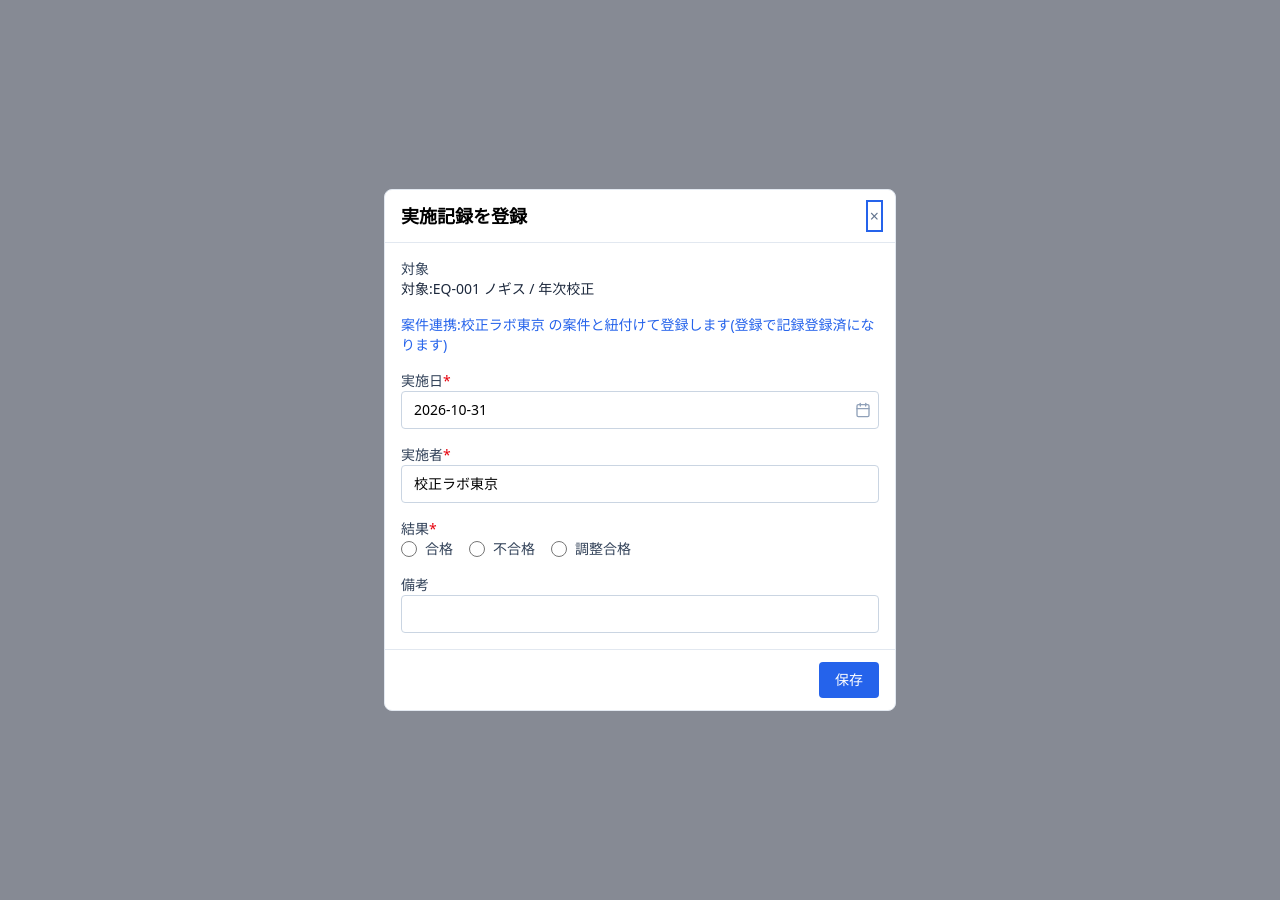
Test: ServiceRecordModal › addServiceRecord が no-op(null)の場合はエラーを表示しモーダルを閉じない
Click the radio button labelled "合格" at coordinates (409, 549), box [401,541,417,557]
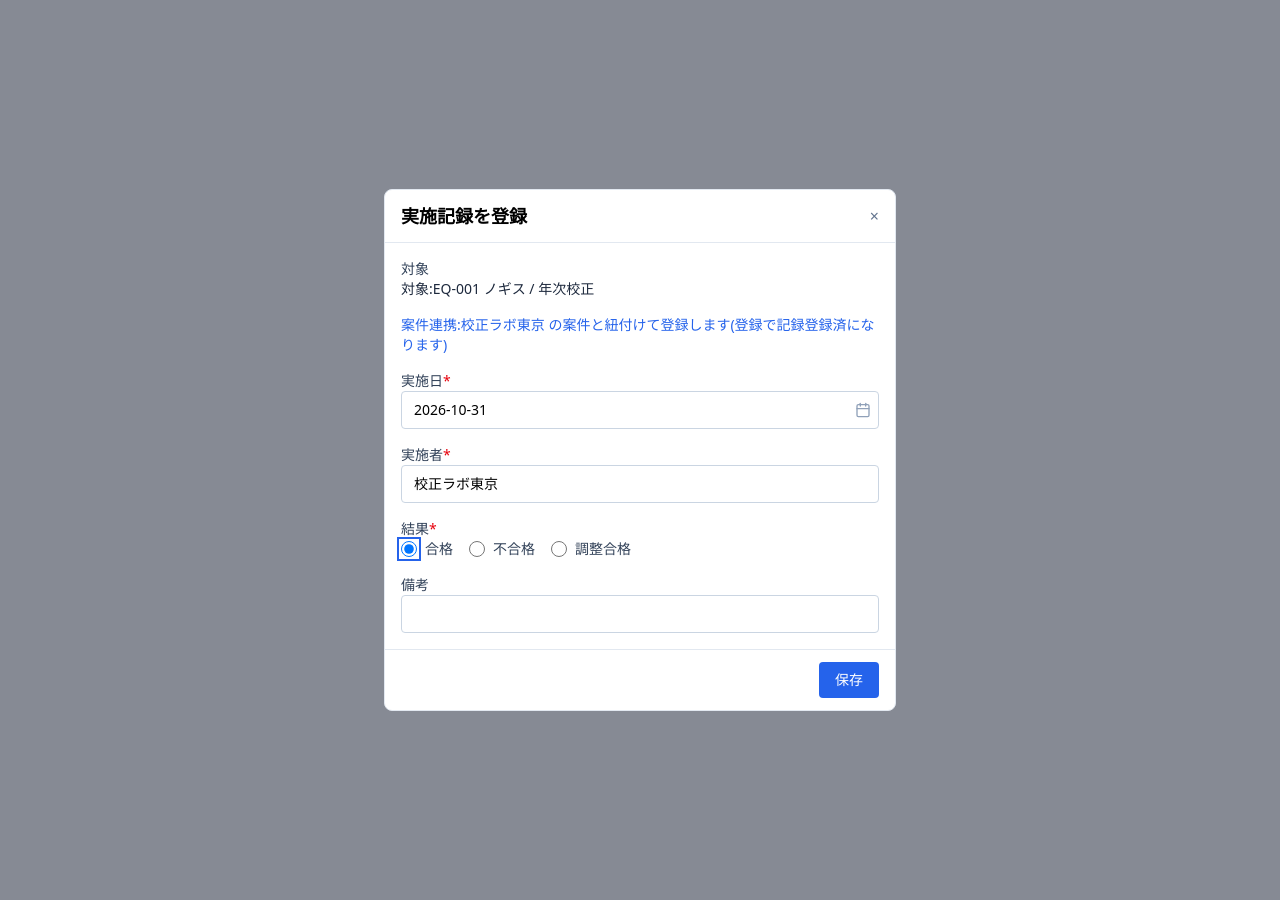
Click the button "保存" at coordinates (849, 680), box [819,662,879,698]
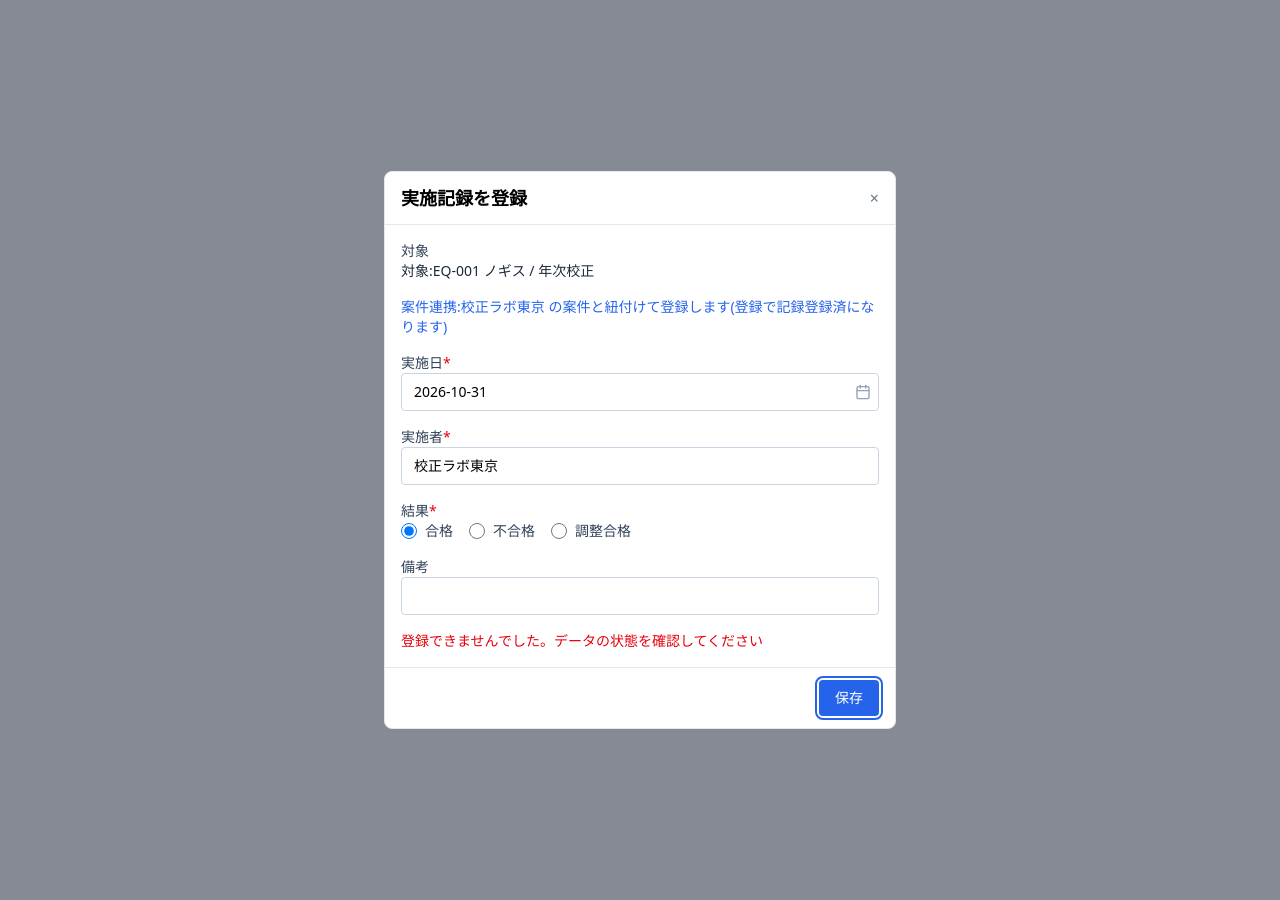
Expected: the text "登録できませんでした。データの状態を確認してください" is shown, [401,631,763,650]
